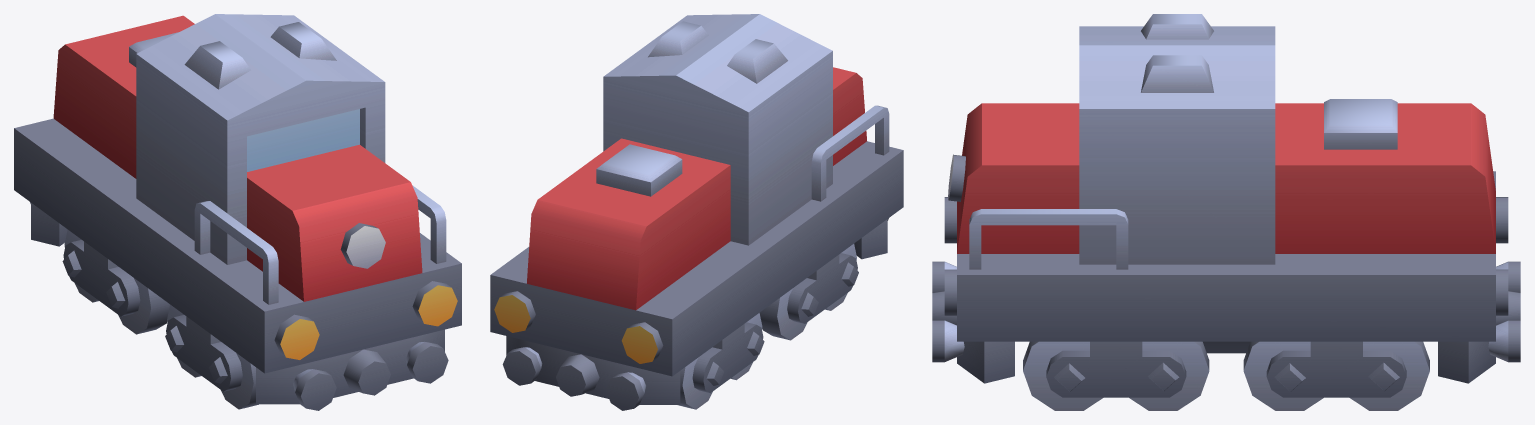
The model's file is kenney-train-train-diesel-b.glb.
The picture shows the model from 3 angles, left to right: view 1: azimuth 30°, elevation 25°; view 2: azimuth 150°, elevation 25°; view 3: azimuth 270°, elevation 25°; orthographic projection. The views are drawn at different scales.
Visible parts, largest first — view 1: train-diesel-b, wheels-back, wheels-front; view 2: train-diesel-b, wheels-front, wheels-back; view 3: train-diesel-b, wheels-back, wheels-front.
Part boxes in pixels (bbox=[...]): train-diesel-b: bbox=[14, 14, 461, 410]; wheels-back: bbox=[62, 230, 169, 334]; wheels-front: bbox=[165, 304, 258, 409]; train-diesel-b: bbox=[490, 14, 903, 410]; wheels-front: bbox=[759, 244, 858, 340]; wheels-back: bbox=[678, 313, 764, 409]; train-diesel-b: bbox=[932, 14, 1520, 383]; wheels-back: bbox=[1243, 341, 1429, 410]; wheels-front: bbox=[1023, 341, 1209, 410].
Bounding box in the file's own units: 1 × 1.48 × 2.4.
Materials: 1 (1 with a texture image).
